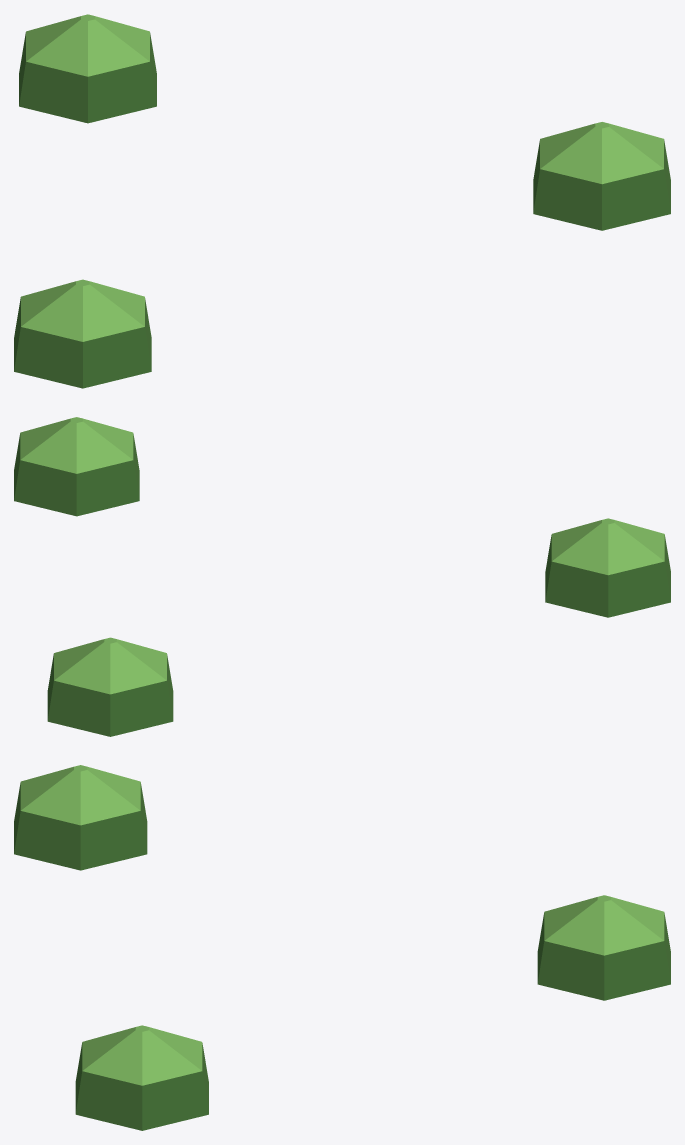
File: cactus-1.glb
The picture shows the model from 3 angles, top to bottom: view 1: azimuth 30°, elevation 25°; view 2: azimuth 150°, elevation 25°; view 3: azimuth 270°, elevation 25°; orthographic projection. The views are drawn at different scales.
Parts seen in each view (by area): view 1: cactus-1; view 2: cactus-1; view 3: cactus-1.
Part boxes in pixels (x1,y1,x2,y2): cactus-1: (14,14,670,388); cactus-1: (14,417,670,736); cactus-1: (14,765,670,1130).
Size of the model in its own units: 0.5 by 0.065 by 0.4266.
Materials: 1 (1 with a texture image).
